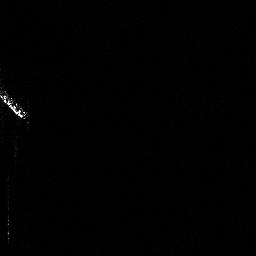ship: (1, 86, 33, 123)
